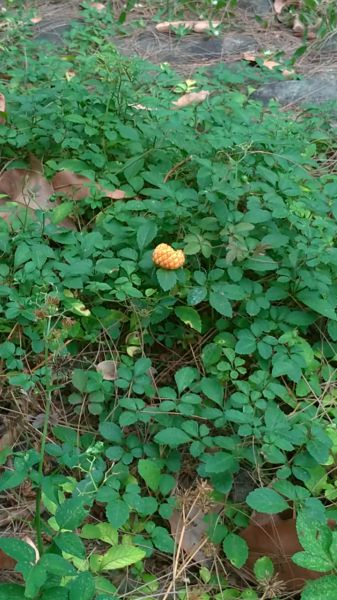eggs: (149, 242, 187, 274)
